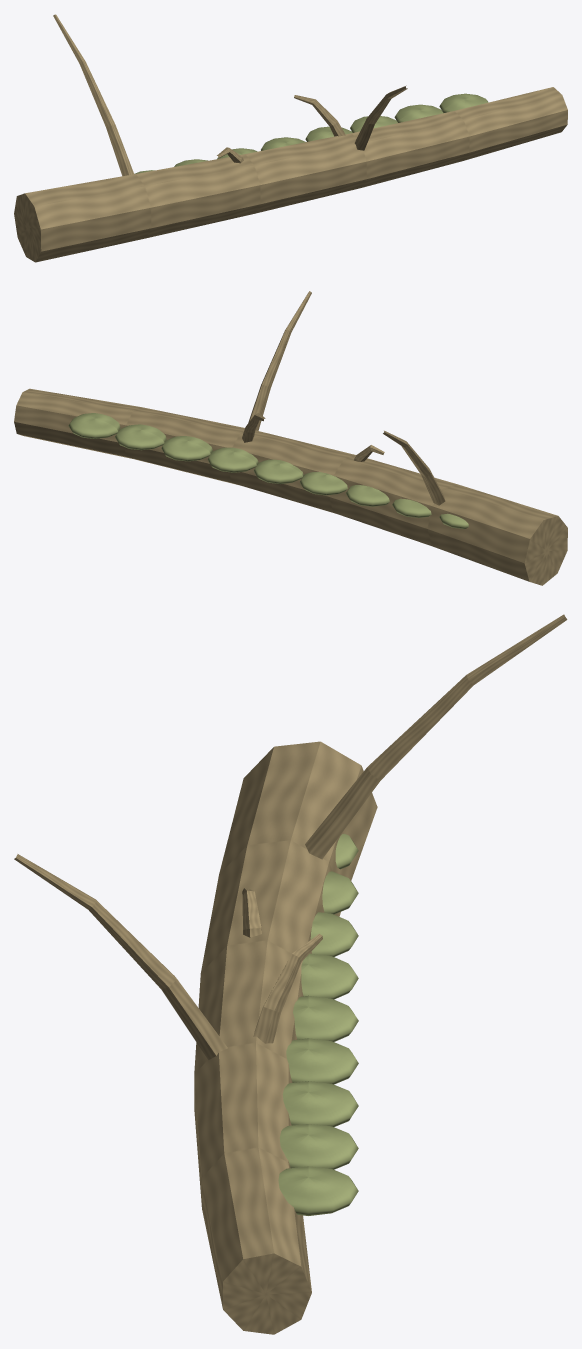
File: lichen_crusted_branch_swamp_and_mangrove_22667.glb
3 views of the same model, one above another, from view 1: azimuth 30°, elevation 25°; view 2: azimuth 150°, elevation 25°; view 3: azimuth 270°, elevation 25° (orthographic). The views are drawn at different scales.
Parts seen in each view (by area): view 1: lichen-branch; view 2: lichen-branch; view 3: lichen-branch.
Boxes of the visible parts, x1,y1,x2,y2 form: lichen-branch: [14, 14, 567, 262]; lichen-branch: [14, 291, 567, 585]; lichen-branch: [14, 614, 567, 1334].
Bounding box in the file's own units: 1.52 × 0.4836 × 0.7156.
2 materials, 2 textured.
